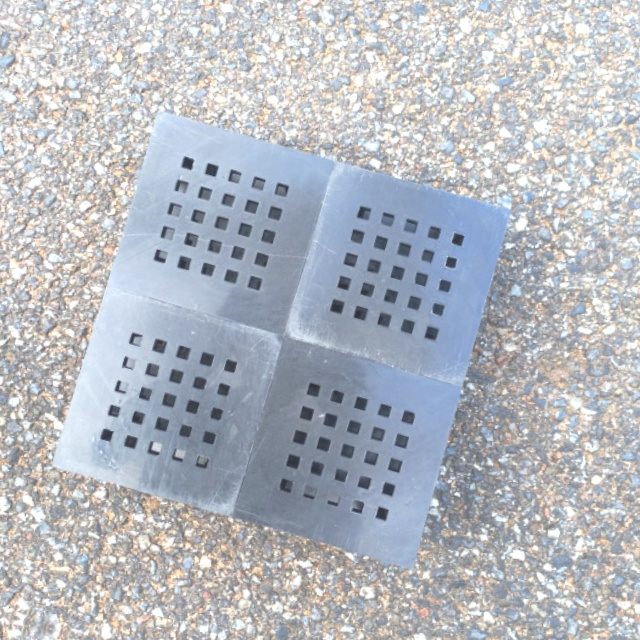pallet: (35, 103, 521, 577)
